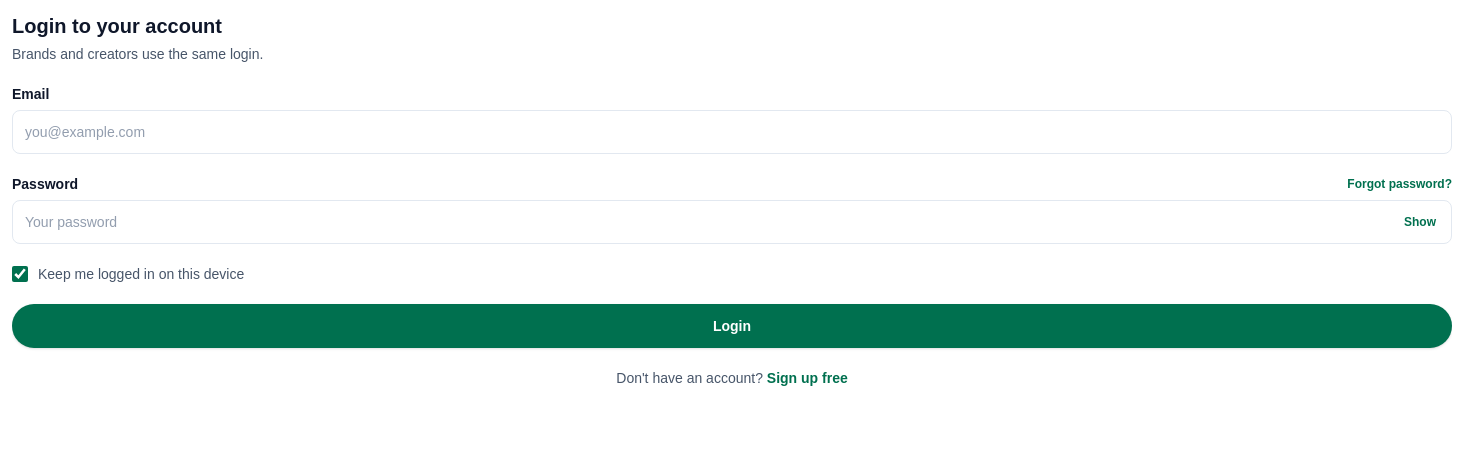
it: SignInForm › shows a clear message for {"kind":"invalid_credentials"}
The width and height of the screenshot is (1464, 463).
Type "me@example.com" into the field labelled "Email" at (732,132), box [12,110,1452,154]
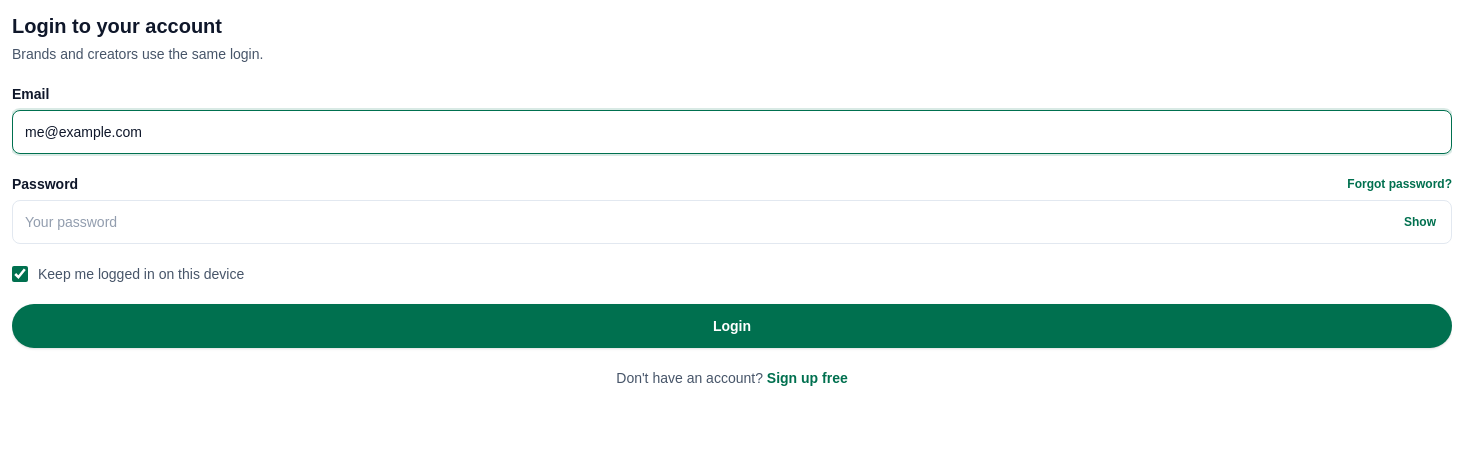
Type "Passw0rdtest" into the password field labelled "Password" at (732,222), box [12,200,1452,244]
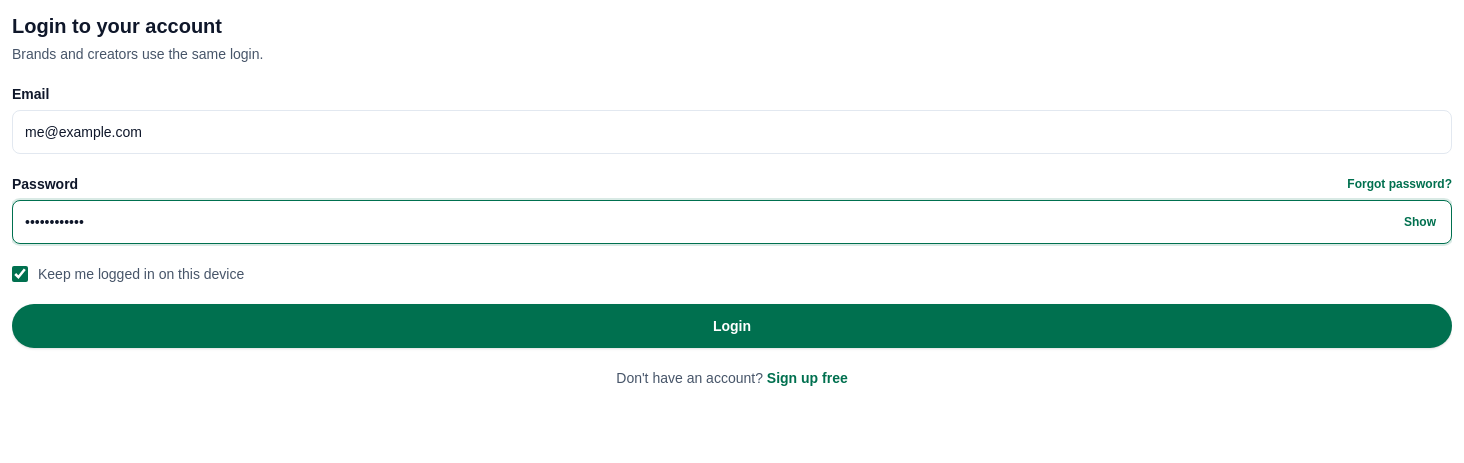
Click the button "Login" at (732,326), box [12,304,1452,348]
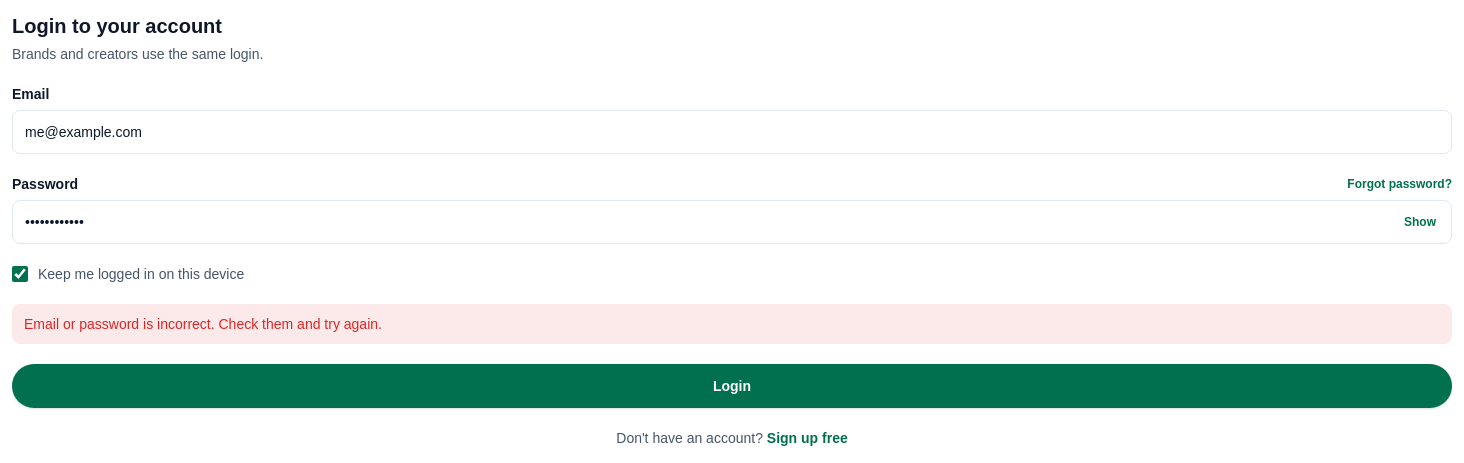
Now the message shows "Email or password is incorrect", box [24,316,382,332]
